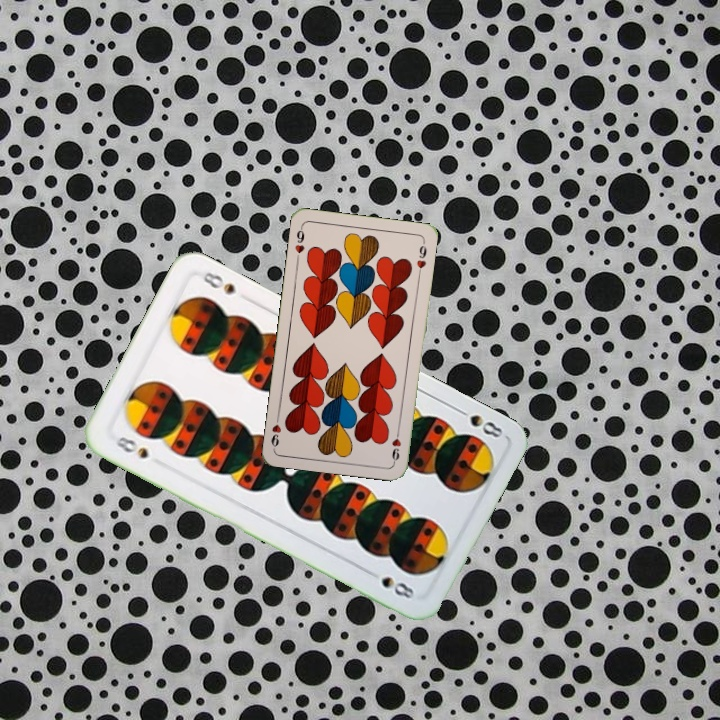H9: (291, 223, 307, 263), (388, 425, 404, 465)
S8: (451, 403, 505, 441), (111, 432, 151, 462)
